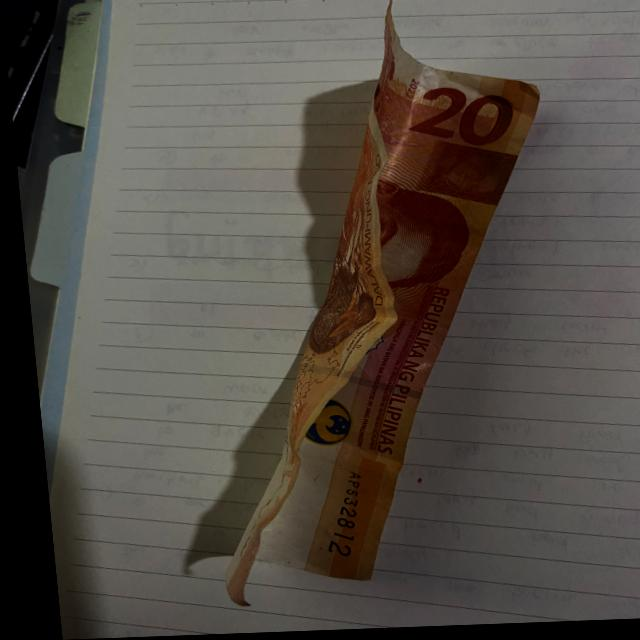concealed_value: (408, 143, 517, 208)
security_thread: (290, 366, 418, 405)
serial_number: (295, 460, 371, 577)
value: (405, 66, 516, 150)
